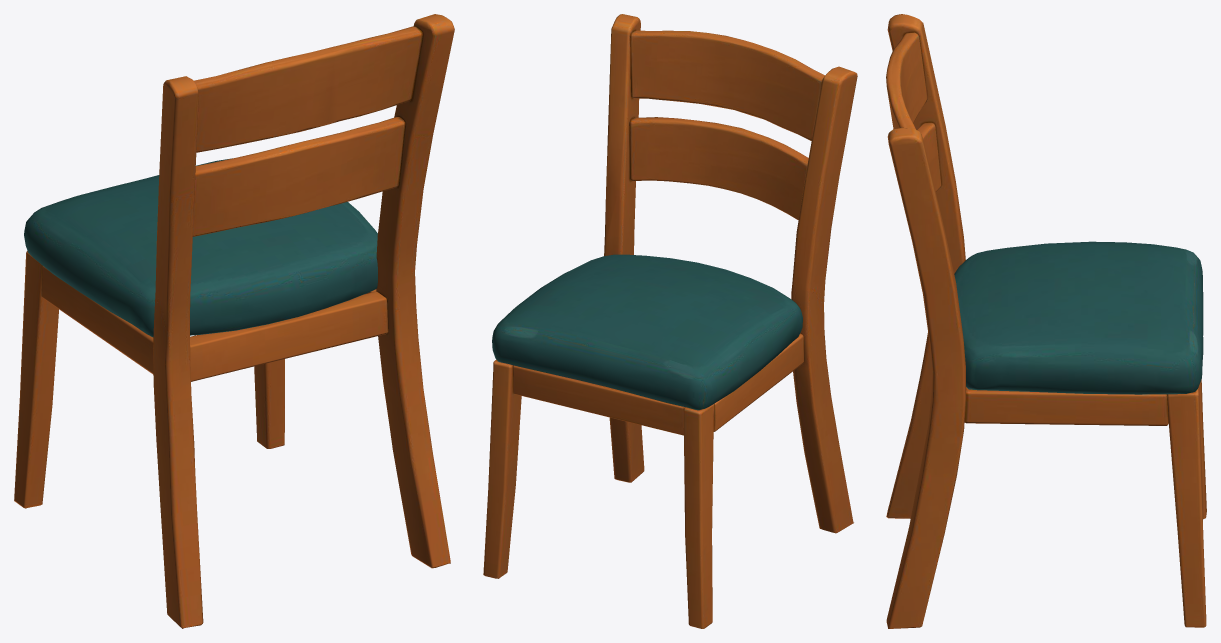
Rendered from apartment-chair.glb.
3 views of the same model, side by side, from view 1: azimuth 30°, elevation 25°; view 2: azimuth 150°, elevation 25°; view 3: azimuth 270°, elevation 25° (orthographic). The views are drawn at different scales.
Visible parts, largest first — view 1: apartment-chair; view 2: apartment-chair; view 3: apartment-chair.
Part boxes in pixels (bbox=[...]): apartment-chair: bbox=[14, 14, 454, 628]; apartment-chair: bbox=[483, 14, 857, 628]; apartment-chair: bbox=[886, 14, 1206, 628].
Bounding box in the file's own units: 0.5 × 0.9222 × 0.5433.
Materials: 1 (1 with a texture image).
